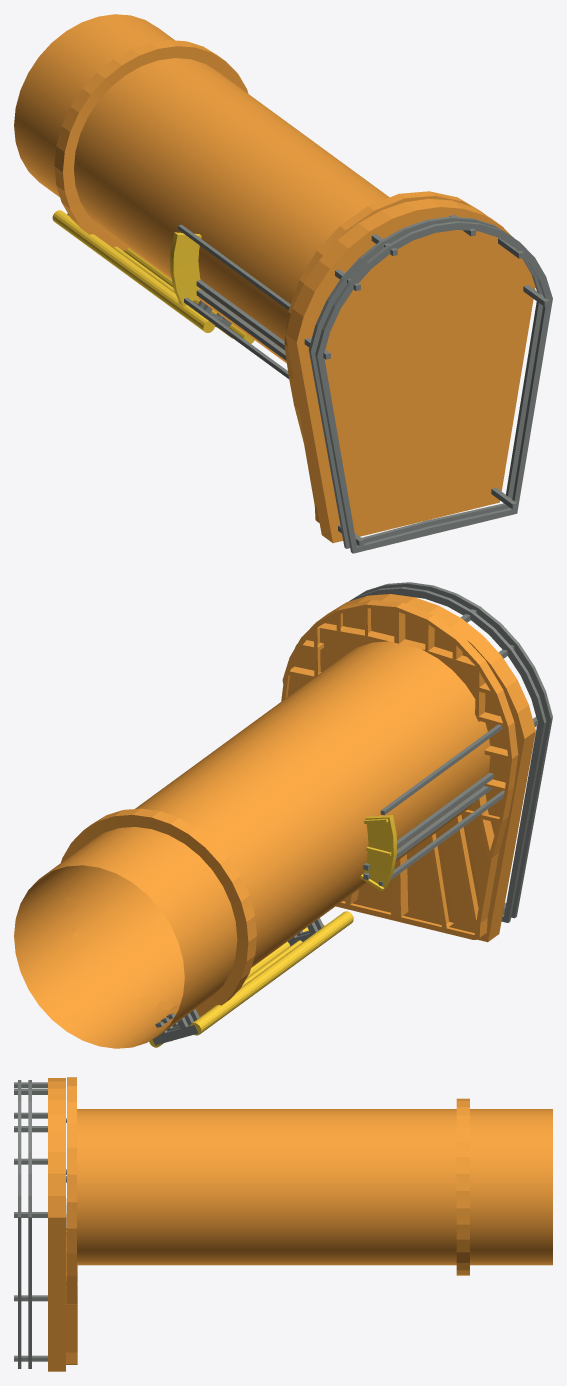
The model's file is offshore_wind_turbine_transition_piece.glb.
The picture shows the model from 3 angles, top to bottom: view 1: azimuth 30°, elevation 25°; view 2: azimuth 150°, elevation 25°; view 3: azimuth 270°, elevation 25°; orthographic projection. The views are drawn at different scales.
Parts seen in each view (by area): view 1: transition_piece; view 2: transition_piece; view 3: transition_piece.
Part boxes in pixels (<box>): transition_piece: <box>14,14,552,553</box>; transition_piece: <box>14,582,552,1048</box>; transition_piece: <box>14,1077,552,1371</box>.
Size of the model in its own units: 14.37 by 18.12 by 34.96.
